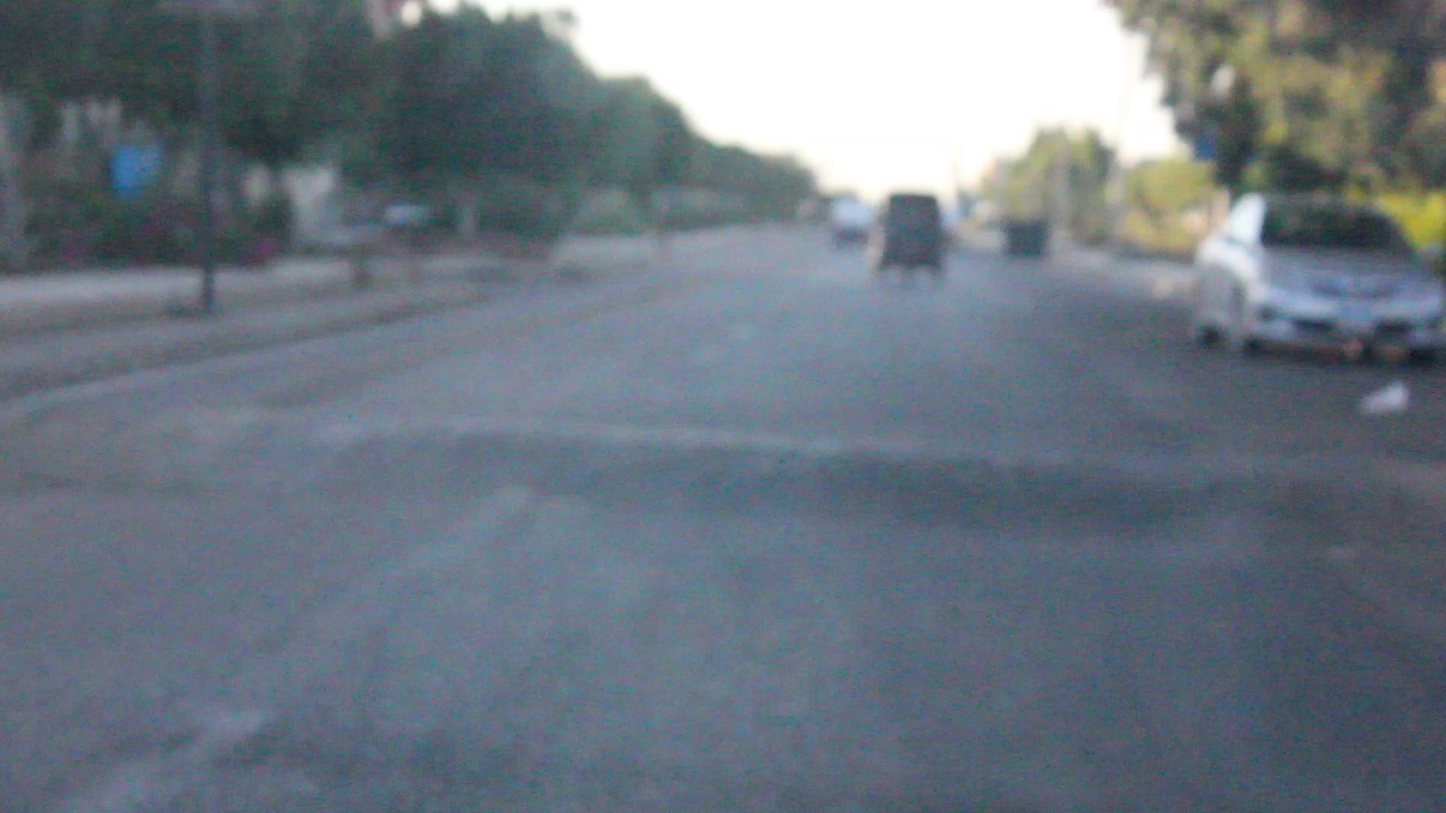Bump: (3, 383, 1445, 568)
